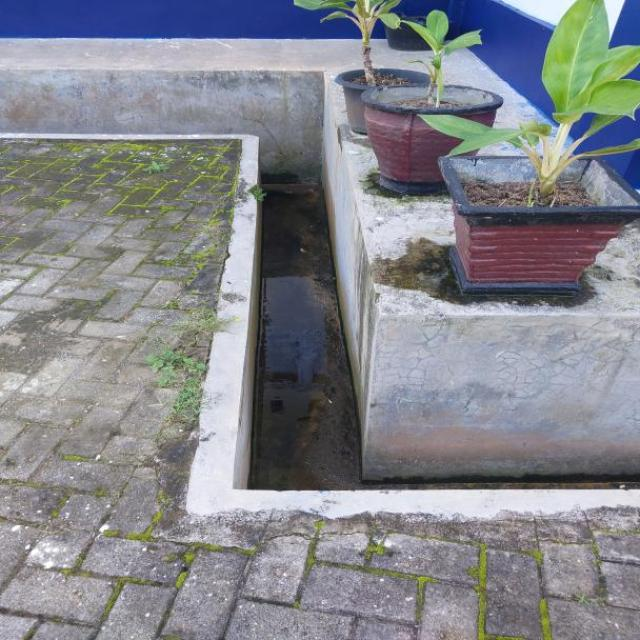plant ahead at: (455, 0, 638, 292), (371, 8, 499, 194)
